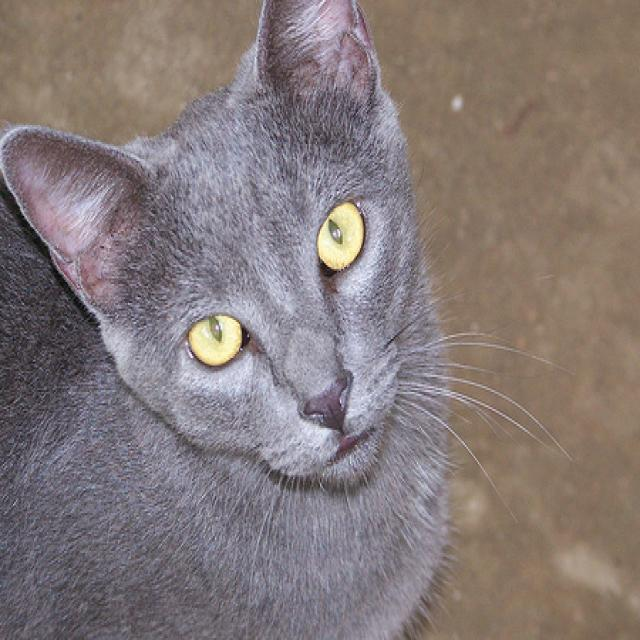Russian Blue: (0, 0, 457, 640)
